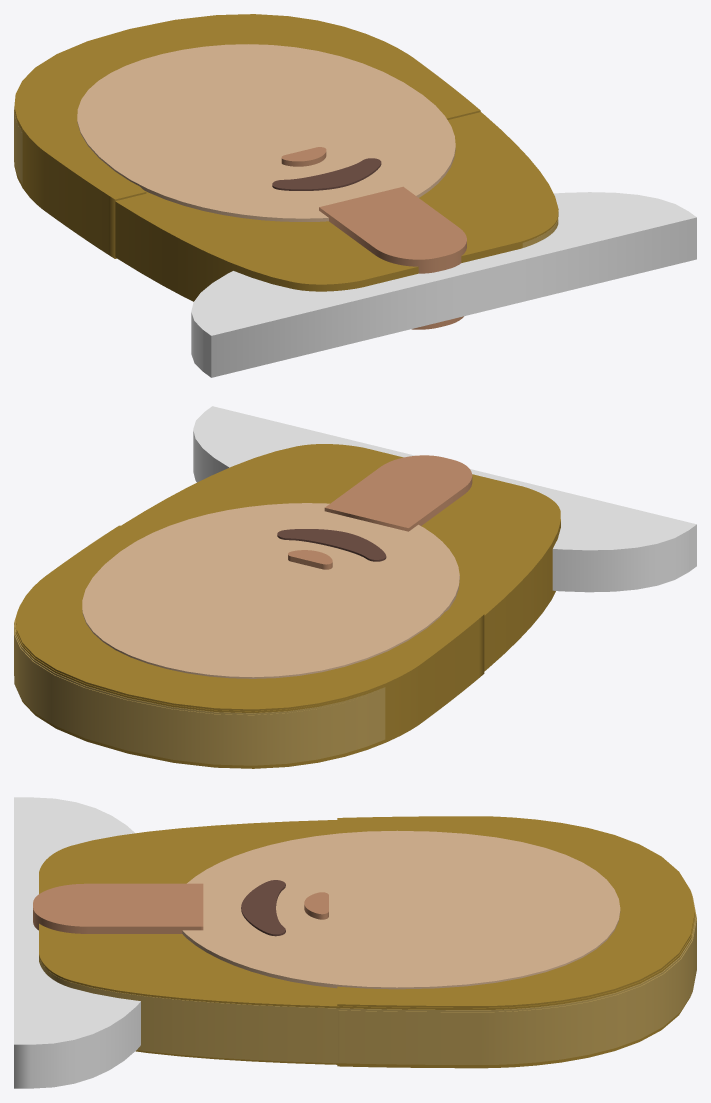
Rendered from emoji_u1f469_1f3fc_200d_2695.glb.
3 renders of one model, top to bottom at view 1: azimuth 30°, elevation 25°; view 2: azimuth 150°, elevation 25°; view 3: azimuth 270°, elevation 25°, orthographic. The views are drawn at different scales.
Parts seen in each view (by area): view 1: emoji_u1f469_1f3fc_200d_2695; view 2: emoji_u1f469_1f3fc_200d_2695; view 3: emoji_u1f469_1f3fc_200d_2695.
Boxes of the visible parts, x1,y1,x2,y2 form: emoji_u1f469_1f3fc_200d_2695: [14, 14, 696, 377]; emoji_u1f469_1f3fc_200d_2695: [14, 406, 696, 768]; emoji_u1f469_1f3fc_200d_2695: [14, 797, 696, 1088].
Bounding box in the file's own units: 0.029 × 0.0042 × 0.0339.
